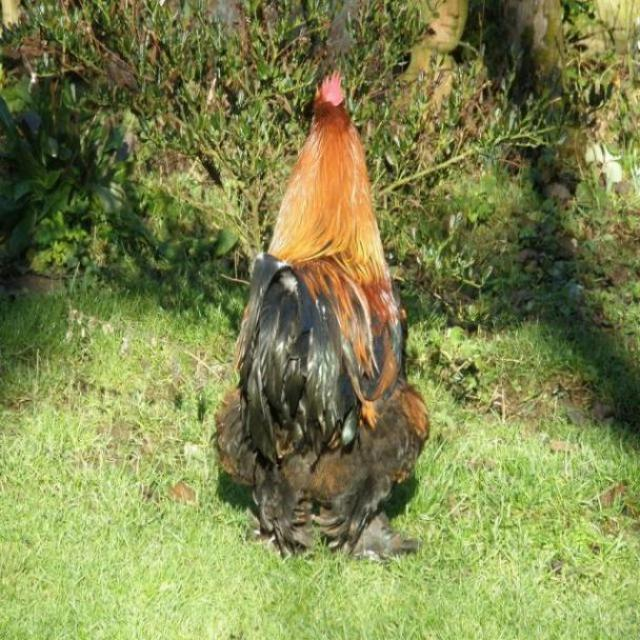Chicken: (219, 49, 425, 580)
